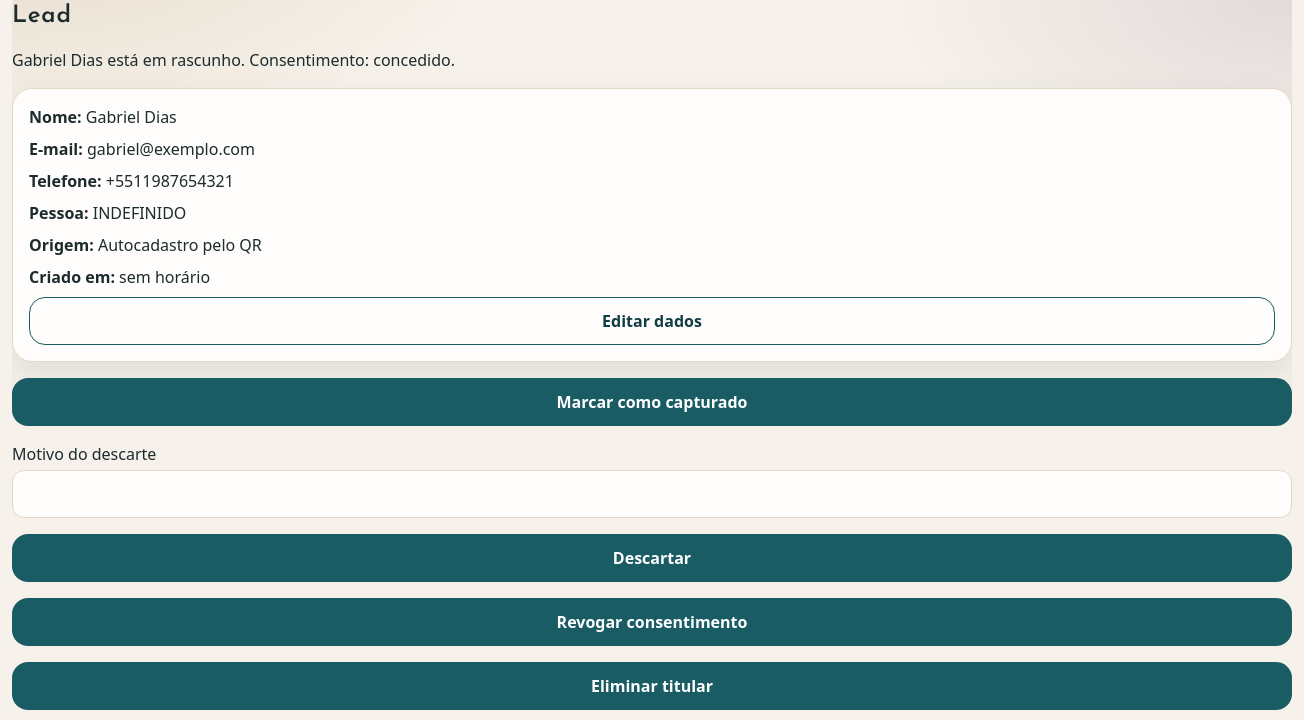
Scenario: ficha do lead › edita o telefone pela API com a versão conhecida
Click the button "Editar dados" at point(652, 321), box [29,297,1275,345]
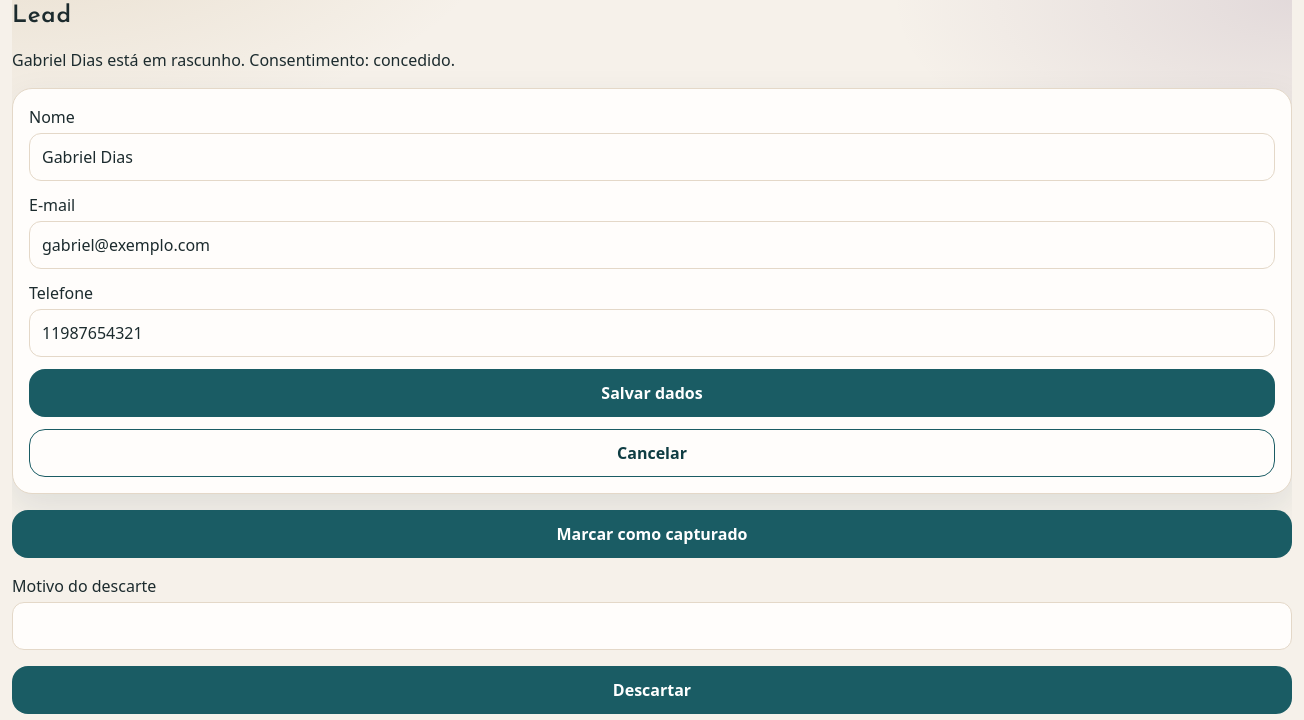
Replace the text in the field labelled "Telefone" with "11900001111" at point(652, 333), box [29,309,1275,357]
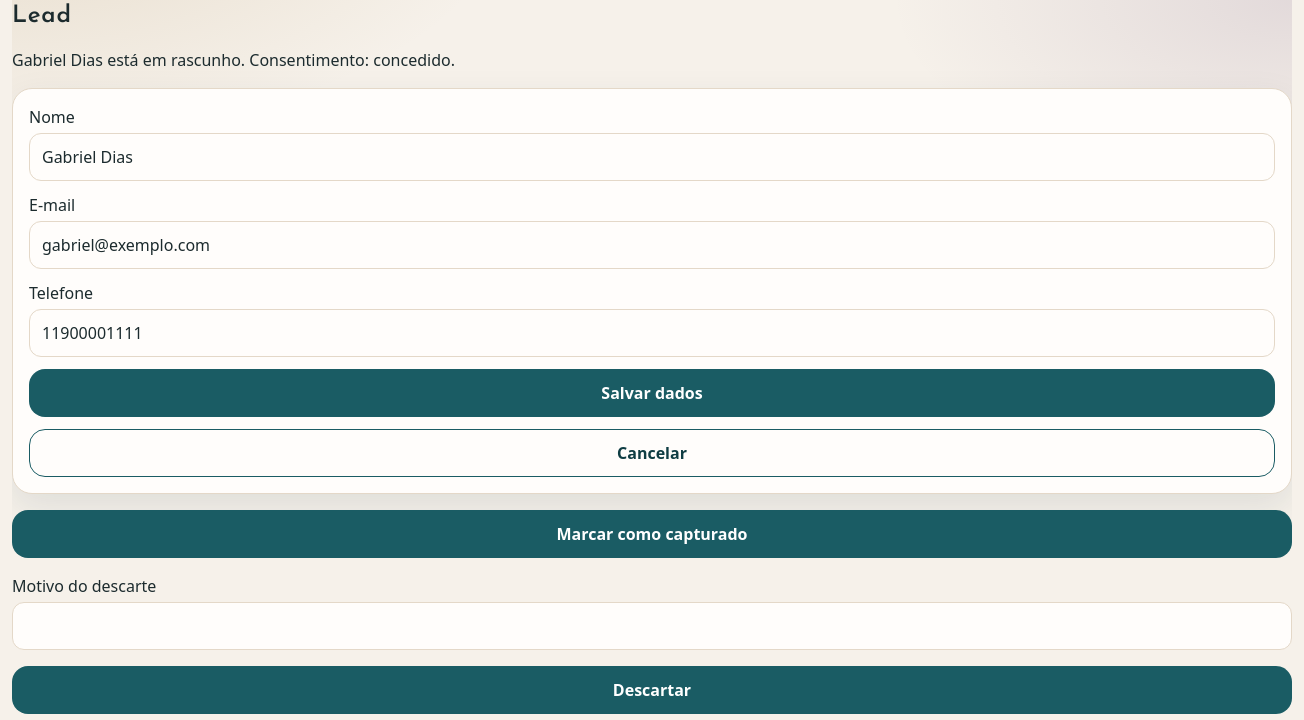
Click the button "Salvar dados" at point(652, 393), box [29,369,1275,417]
(page scrolled)
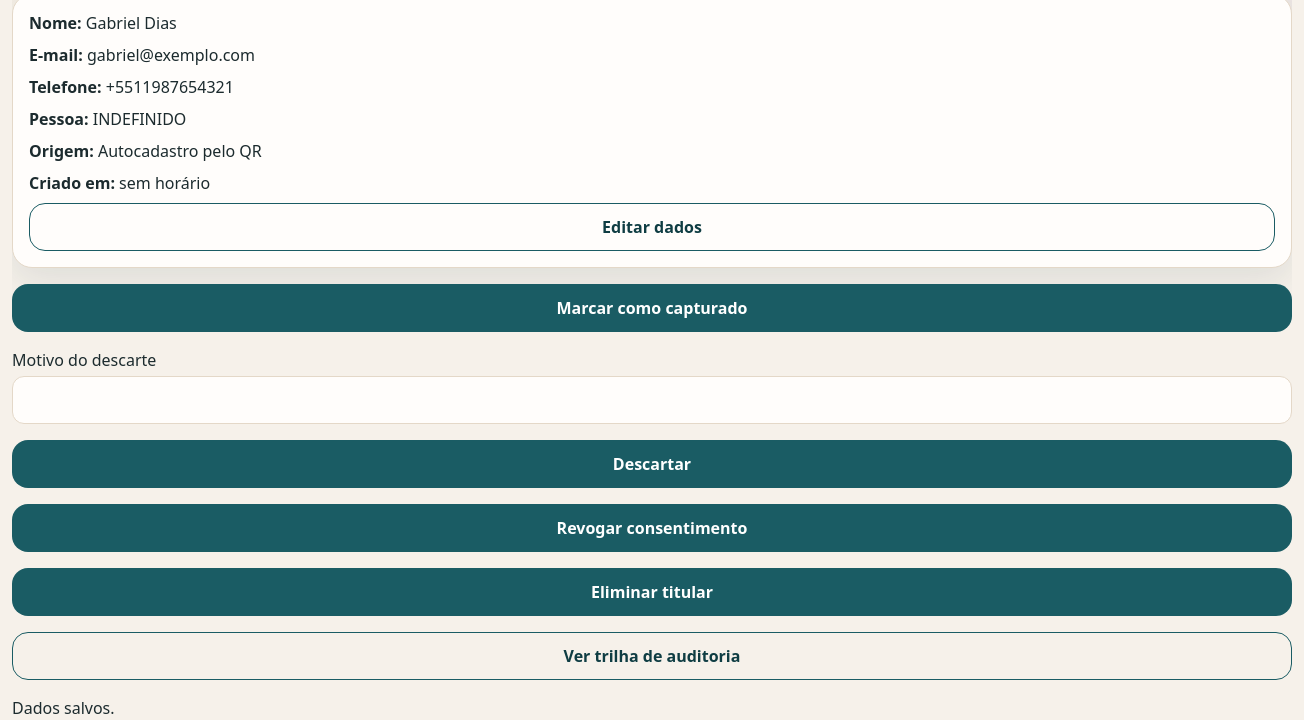
Now the text "Dados salvos." is shown, box [12,697,114,719]
